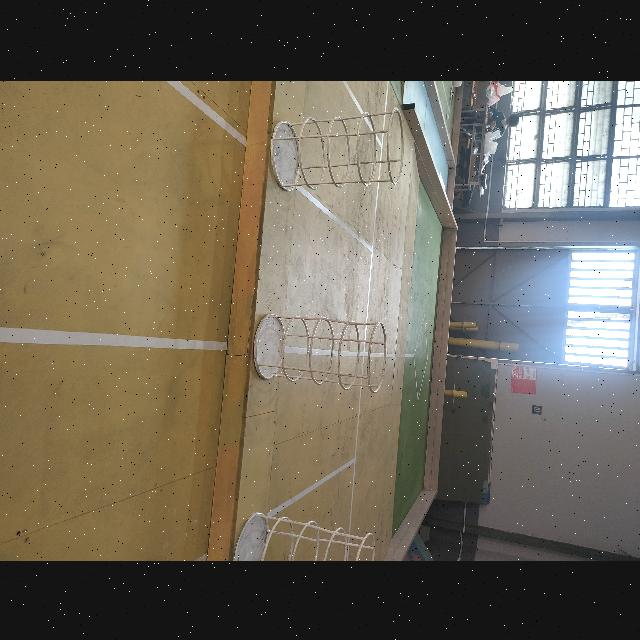S: (270, 106, 406, 191), (252, 311, 388, 393), (231, 510, 376, 560)
